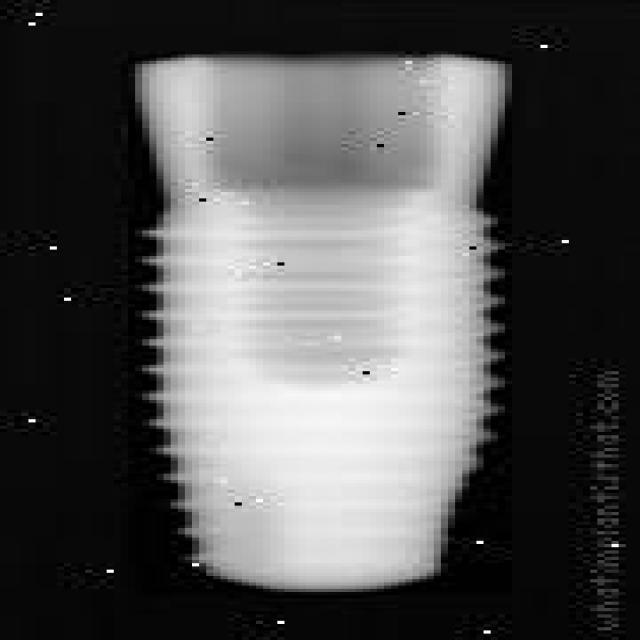Leone Implant: (128, 54, 512, 595)
